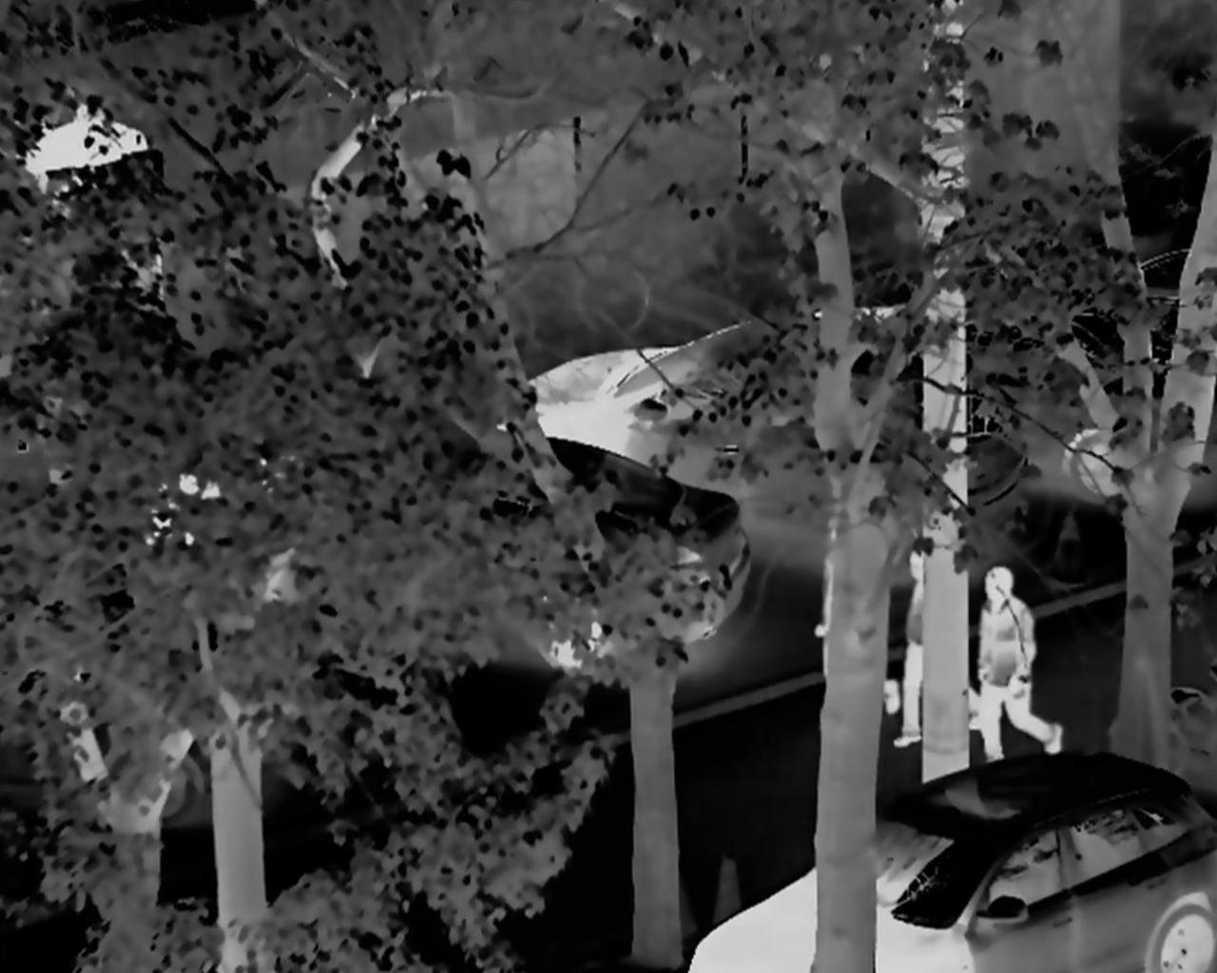person: (964, 564, 1066, 762), (896, 531, 986, 742)
